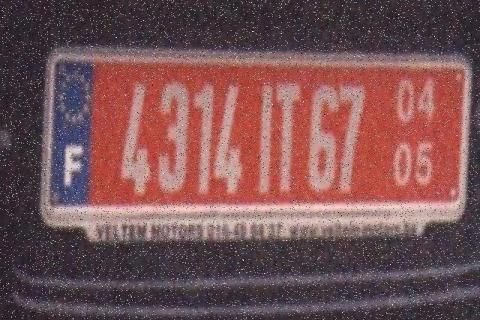LicensePlate: (37, 25, 480, 253)
